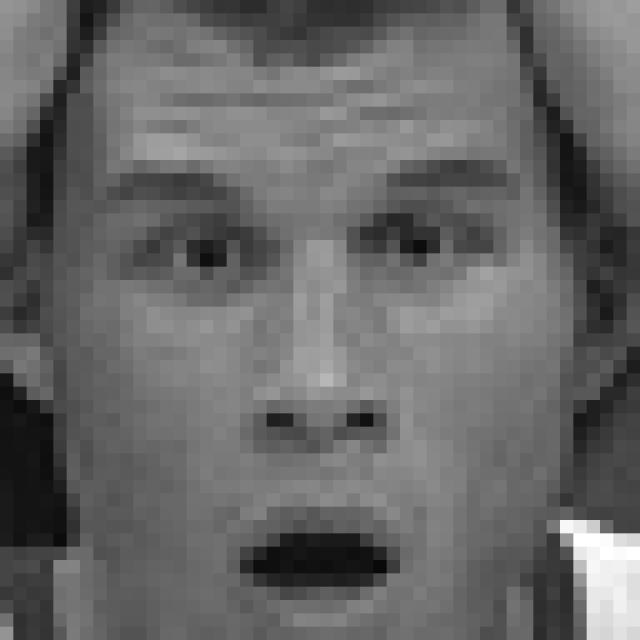surprise: (104, 150, 523, 640)
